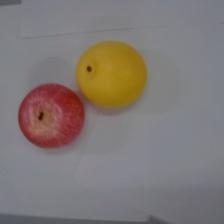red: (17, 82, 86, 150)
yellow: (75, 40, 147, 108)
